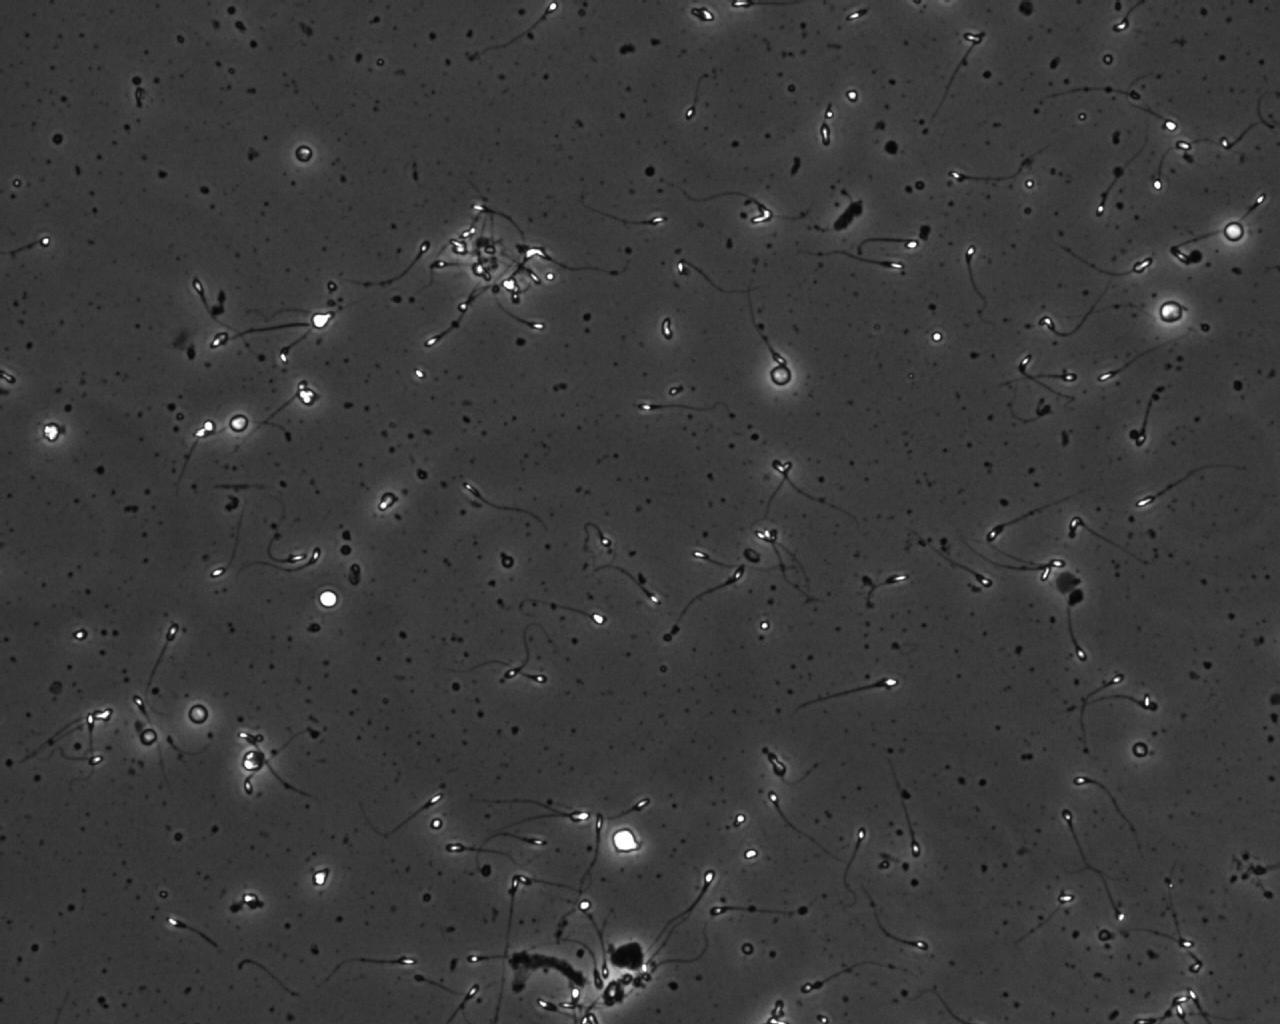cell: (605, 937, 649, 976), (608, 824, 644, 857), (1155, 297, 1187, 327), (766, 360, 796, 390), (238, 746, 267, 776), (184, 700, 213, 728), (1219, 217, 1248, 246), (224, 410, 253, 437), (38, 418, 65, 447), (315, 585, 342, 613), (135, 724, 161, 750), (290, 142, 317, 167), (1128, 737, 1151, 762)
